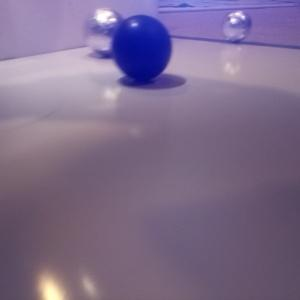alive_ball: (82, 8, 125, 56), (221, 9, 252, 43)
dead_ball: (113, 15, 171, 80)
